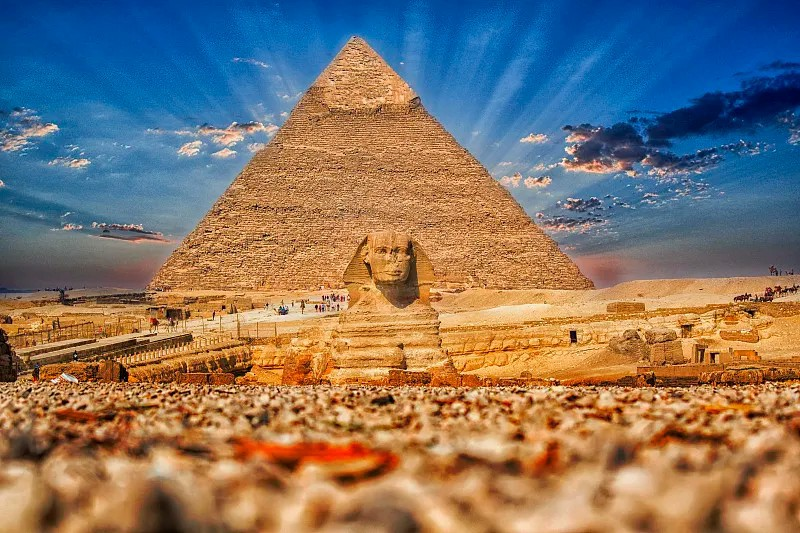Pyramid: (147, 37, 598, 289)
